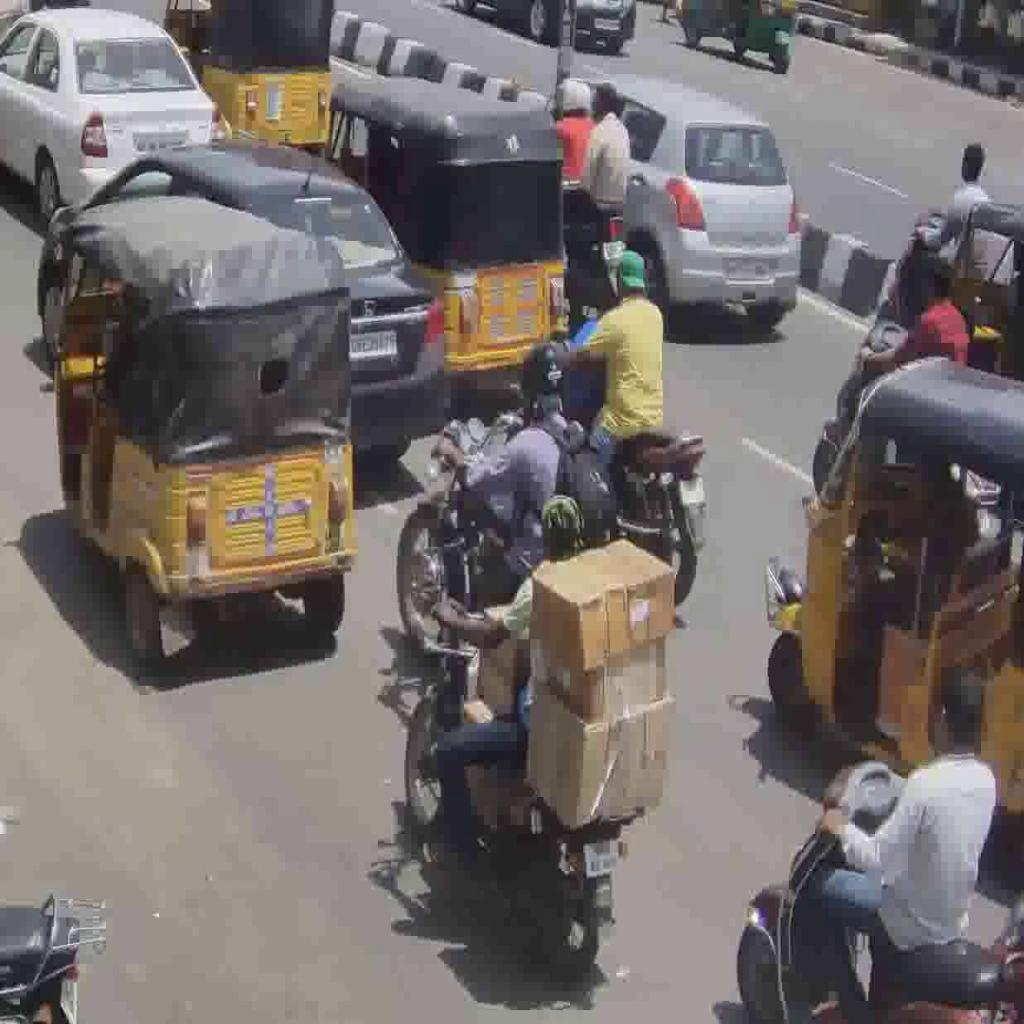bike: (402, 602, 629, 982), (733, 755, 1024, 1024), (393, 413, 601, 652), (615, 429, 711, 608)
helmet: (517, 341, 568, 407)
lisc: (583, 837, 619, 878), (679, 476, 706, 506)
no_helmet: (932, 660, 990, 762), (540, 490, 585, 562), (617, 250, 647, 303)
rider: (796, 661, 998, 1024), (422, 491, 586, 874), (430, 341, 619, 601), (572, 250, 665, 458)
